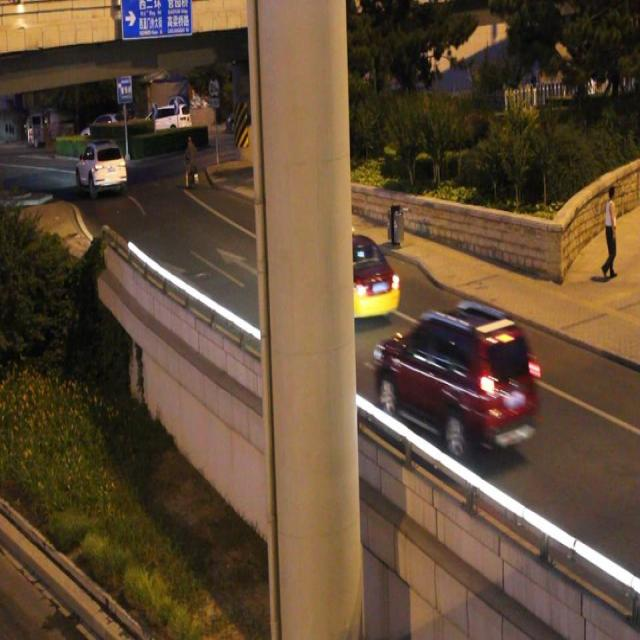car: (373, 303, 538, 457), (296, 227, 399, 325)
